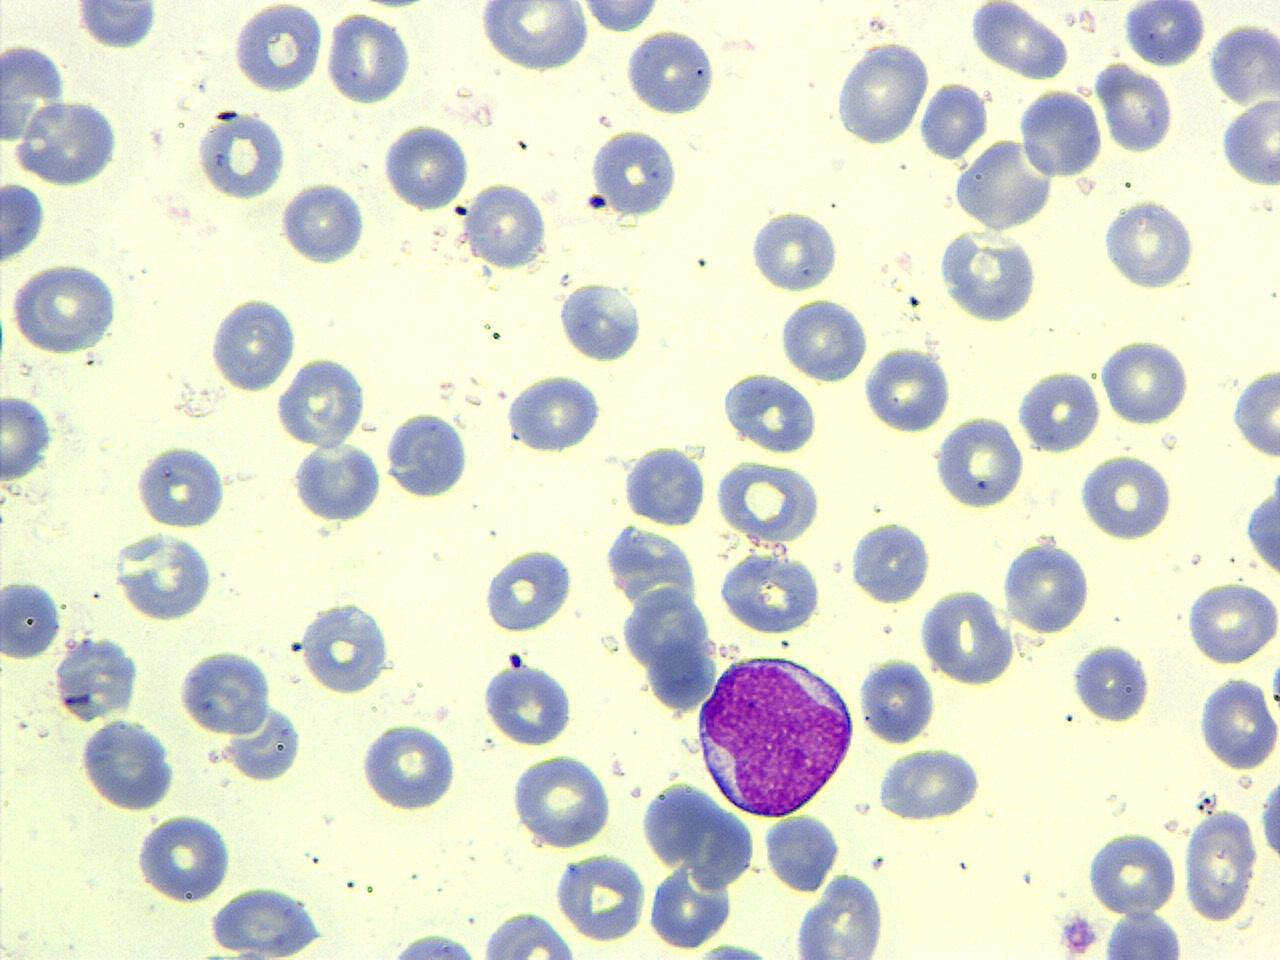Platelets: (72, 2, 159, 51), (1256, 772, 1280, 868), (1056, 909, 1100, 958), (689, 938, 777, 960), (1269, 656, 1280, 710), (584, 192, 607, 211), (214, 108, 240, 122), (507, 652, 524, 670)
RBC: (832, 37, 931, 149), (8, 258, 121, 356), (509, 751, 616, 851), (917, 584, 1019, 688), (951, 136, 1058, 232), (112, 529, 217, 624), (717, 546, 825, 638), (357, 719, 460, 814), (133, 810, 236, 904), (1179, 804, 1259, 925), (714, 456, 824, 544), (999, 536, 1093, 636), (1101, 196, 1199, 291), (274, 353, 371, 448), (932, 413, 1026, 511), (1077, 450, 1175, 544), (874, 742, 984, 825), (176, 645, 272, 740), (193, 108, 288, 202), (230, 2, 325, 95), (552, 852, 648, 944), (860, 343, 954, 436), (968, 0, 1074, 82), (503, 371, 604, 456), (1183, 578, 1279, 667), (479, 660, 576, 748), (132, 443, 230, 530), (326, 9, 412, 108), (1015, 86, 1105, 180), (1099, 336, 1191, 427), (380, 121, 472, 212), (777, 294, 869, 384), (1085, 828, 1179, 916), (463, 177, 548, 273), (278, 178, 370, 266), (747, 206, 841, 292), (477, 2, 590, 73), (1198, 672, 1278, 772), (1014, 365, 1104, 453), (646, 860, 732, 952), (856, 652, 940, 746), (1095, 60, 1175, 154), (760, 810, 844, 894), (1206, 18, 1280, 112), (639, 778, 715, 864), (1217, 93, 1279, 192), (918, 78, 990, 159), (1, 576, 62, 660), (478, 909, 578, 960), (1229, 362, 1279, 462), (1, 391, 55, 483), (1100, 906, 1186, 960), (0, 179, 48, 267), (576, 0, 666, 35)
WBC: (693, 649, 859, 820), (606, 518, 722, 719), (11, 95, 125, 190), (936, 225, 1043, 325), (113, 528, 218, 626), (77, 714, 180, 812), (954, 136, 1059, 232), (718, 546, 826, 638), (297, 598, 396, 698), (206, 292, 302, 394), (920, 588, 1017, 688), (175, 644, 276, 738), (479, 542, 580, 636), (622, 26, 724, 119), (1000, 535, 1093, 636), (208, 881, 327, 959), (275, 353, 370, 449), (875, 744, 986, 826), (587, 125, 682, 220), (194, 107, 288, 203), (792, 869, 892, 959), (719, 367, 821, 454), (860, 344, 955, 437), (746, 205, 844, 295), (505, 371, 606, 457), (776, 295, 870, 387), (479, 657, 574, 748), (382, 409, 474, 502), (50, 632, 142, 724), (290, 442, 386, 527), (463, 180, 550, 273), (1016, 364, 1104, 455), (846, 516, 934, 606), (620, 441, 708, 530), (556, 281, 644, 367), (1070, 639, 1152, 727), (223, 702, 306, 784), (762, 810, 840, 896), (1216, 90, 1278, 191), (1121, 0, 1207, 70), (916, 79, 988, 162), (478, 907, 578, 960), (0, 390, 56, 484), (73, 1, 161, 52), (1100, 908, 1188, 958), (1243, 469, 1280, 584), (1, 179, 48, 268), (375, 928, 492, 958), (574, 1, 669, 37), (1256, 764, 1280, 868)
